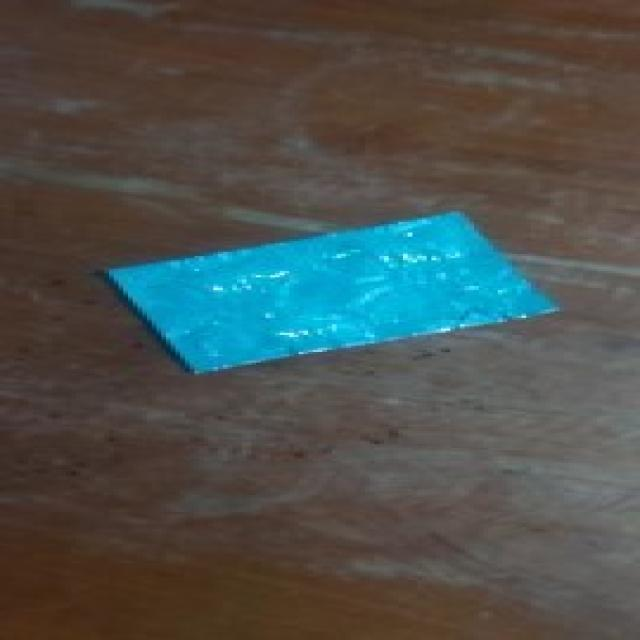Cacat: (103, 210, 569, 376)
